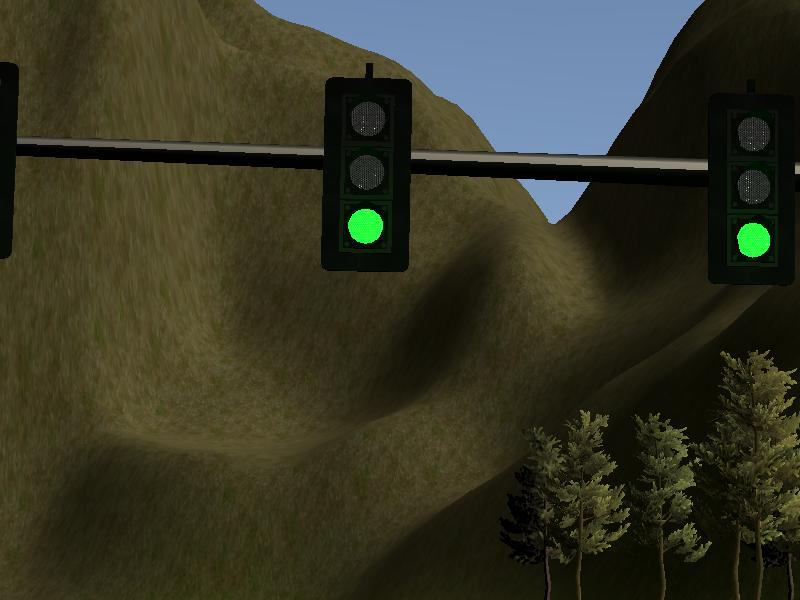green: (323, 79, 408, 273), (710, 94, 795, 285)
